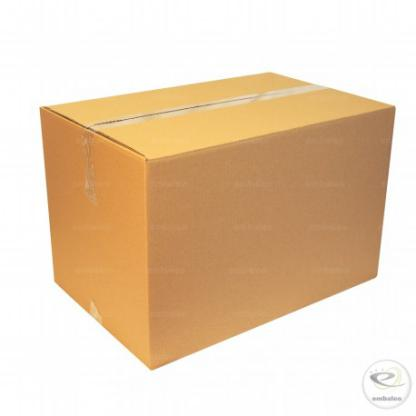box: (37, 69, 398, 371)
